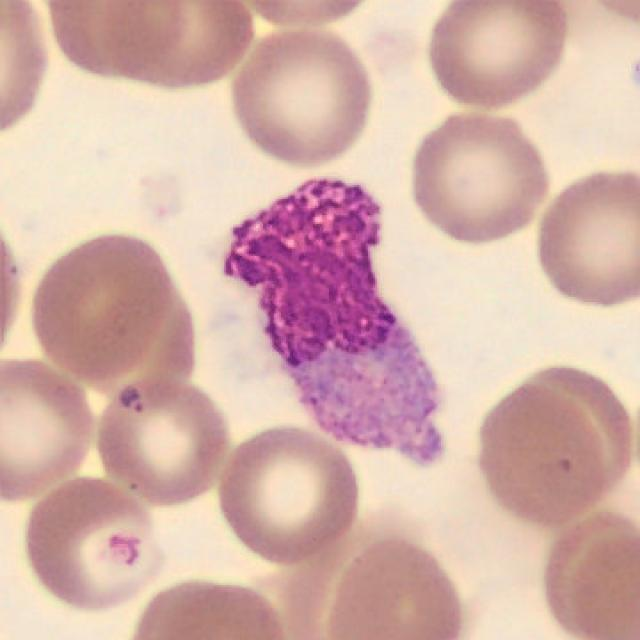Monocito: (226, 180, 439, 459)
